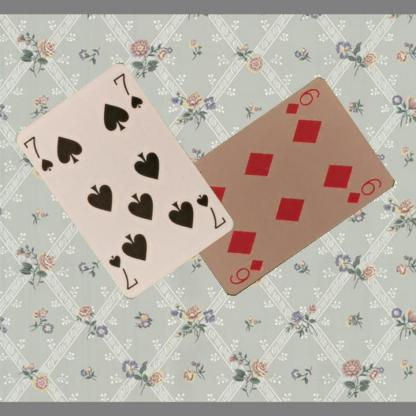6d: (227, 256, 265, 287), (283, 85, 321, 116)
7s: (194, 191, 228, 231), (21, 133, 55, 173)
